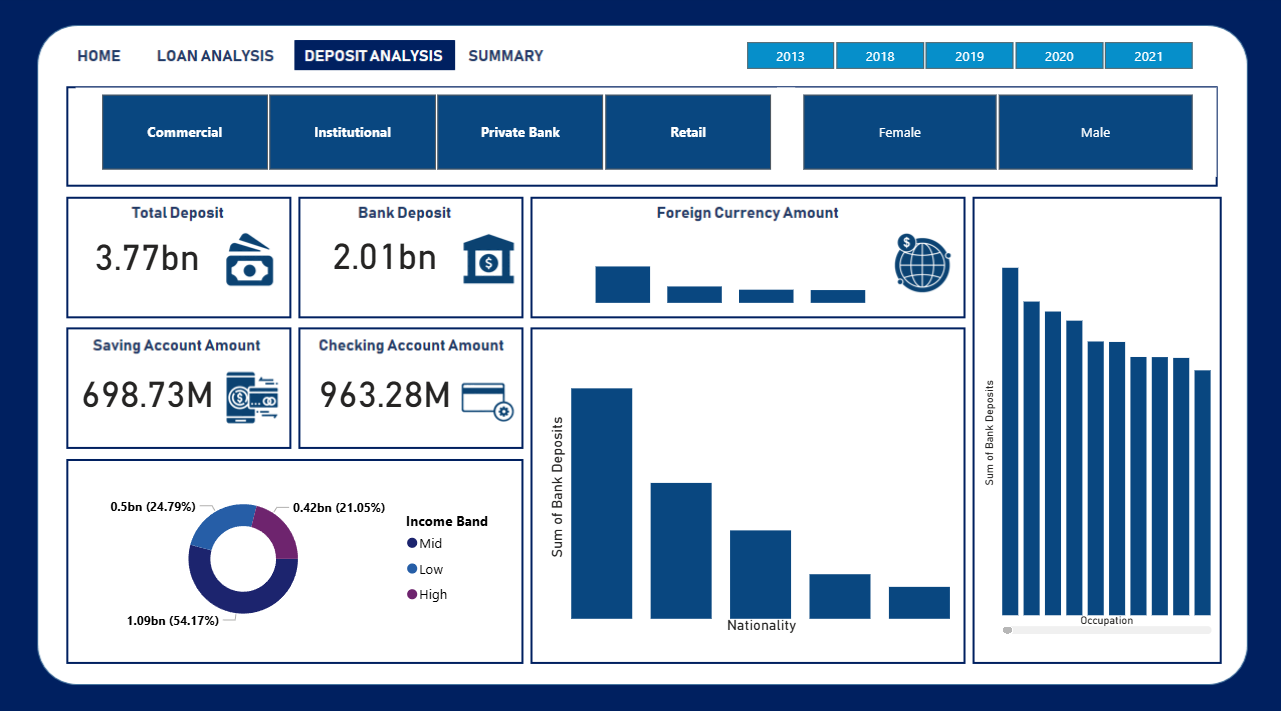

This screenshot's page, from the dashboard's own definition file:
{"tool":"powerbi","page":{"name":"Deposit Analysis","canvas":[1280,720],"ordinal":2},"visuals":[{"type":"slicer","fields":{"Values":["banking_case cust.Year of Joining"]},"box":[720,40,493.8,40],"z":0},{"type":"actionButton","box":[55,40,100,40],"z":1000},{"type":"actionButton","box":[155.6,39.8,125.5,39.8],"z":2000},{"type":"actionButton","box":[66.4,39.8,83.2,39.8],"z":3000},{"type":"card","fields":{"Values":["banking_case cust.Total_Deposit"]},"box":[66.2,217.5,167.5,80],"z":4000},{"type":"card","fields":{"Values":["Sum(banking_case cust.Bank Deposits)"]},"box":[291.2,222.5,190,68.8],"z":5000},{"type":"card","fields":{"Values":["Sum(banking_case cust.Saving Accounts)"]},"box":[55,360,190,68.8],"z":6000},{"type":"card","fields":{"Values":["Sum(banking_case cust.Checking Accounts)"]},"box":[281.2,360,210,68.8],"z":7000},{"type":"donutChart","fields":{"Category":["banking_case cust.Income Band"],"Y":["Sum(banking_case cust.Bank Deposits)"]},"box":[78.8,486.2,433.8,150],"z":8000},{"type":"clusteredColumnChart","fields":{"Y":["Sum(banking_case cust.Foreign Currency Account)"],"Category":["banking_case cust.BRId"]},"box":[591.2,240,281.2,72.5],"z":9000},{"type":"clusteredColumnChart","fields":{"Y":["Sum(banking_case cust.Bank Deposits)"],"Category":["banking_case cust.Nationality"]},"box":[545,345,411.2,296.2],"z":10000},{"type":"clusteredColumnChart","fields":{"Y":["Sum(banking_case cust.Bank Deposits)"],"Category":["banking_case cust.Occupation"]},"box":[977.5,240,236.2,401.2],"z":11000},{"type":"slicer","fields":{"Values":["banking_case cust.BRId"]},"box":[78.8,92.5,716.2,88.8],"z":12000},{"type":"slicer","fields":{"Values":["banking_case cust.GenderId"]},"box":[776.2,92.5,437.5,88.8],"z":13000},{"type":"actionButton","box":[462.1,39.8,100.1,39.8],"z":14000}]}

Visuals, with their boxes in screenshot pixels (x1, y1, x2, y2), scaled from the page's 1280x720 canvas onto the 1281x711 screenshot:
slicer - banking_case cust.Year of Joining: select_region(721, 40, 1215, 79)
actionButton: select_region(55, 40, 155, 79)
actionButton: select_region(156, 39, 281, 79)
actionButton: select_region(66, 39, 150, 79)
card - banking_case cust.Total_Deposit: select_region(66, 215, 234, 294)
card - Sum(banking_case cust.Bank Deposits): select_region(291, 220, 482, 288)
card - Sum(banking_case cust.Saving Accounts): select_region(55, 356, 245, 423)
card - Sum(banking_case cust.Checking Accounts): select_region(281, 356, 492, 423)
donutChart - banking_case cust.Income Band x Sum(banking_case cust.Bank Deposits): select_region(79, 480, 513, 628)
clusteredColumnChart - Sum(banking_case cust.Foreign Currency Account) x banking_case cust.BRId: select_region(592, 237, 873, 309)
clusteredColumnChart - Sum(banking_case cust.Bank Deposits) x banking_case cust.Nationality: select_region(545, 341, 957, 633)
clusteredColumnChart - Sum(banking_case cust.Bank Deposits) x banking_case cust.Occupation: select_region(978, 237, 1215, 633)
slicer - banking_case cust.BRId: select_region(79, 91, 796, 179)
slicer - banking_case cust.GenderId: select_region(777, 91, 1215, 179)
actionButton: select_region(462, 39, 563, 79)
